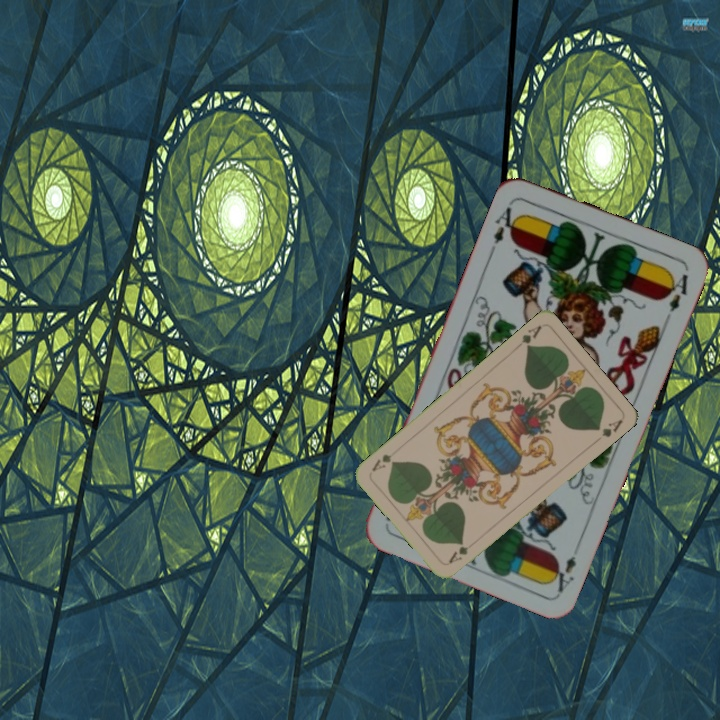EA: (545, 551, 579, 596), (489, 203, 523, 247)
GA: (444, 537, 479, 566), (517, 321, 544, 352)
